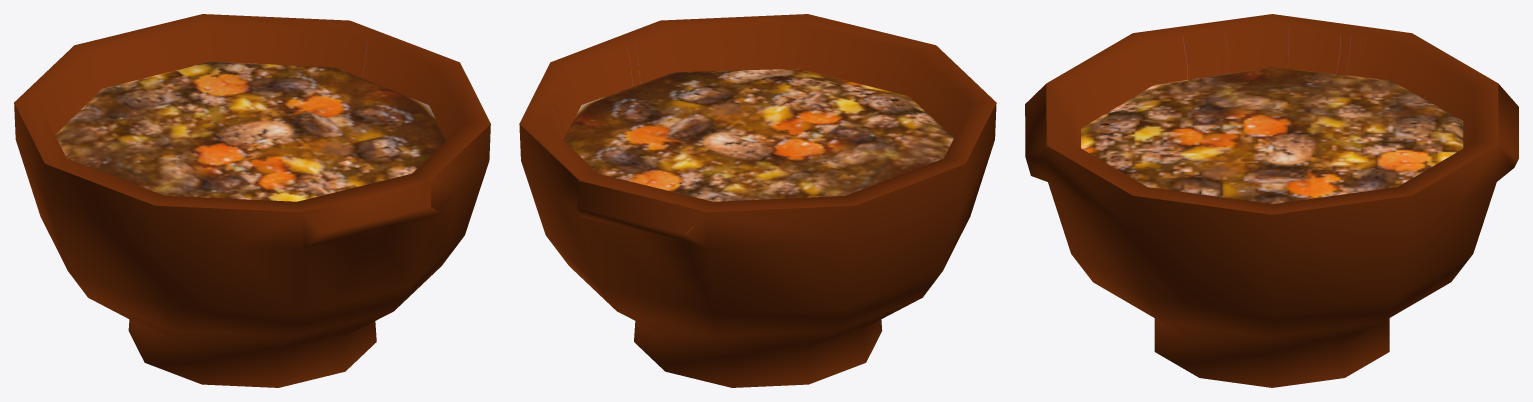
Rendered from KS_WitchSoup_Ground.fbx.
3 renders of one model, left to right at view 1: azimuth 30°, elevation 25°; view 2: azimuth 150°, elevation 25°; view 3: azimuth 270°, elevation 25°, orthographic.
Visible parts, largest first — view 1: Bowl.001; view 2: Bowl.001; view 3: Bowl.001.
Boxes of the visible parts, x1,y1,x2,y2 form: Bowl.001: [14, 14, 490, 387]; Bowl.001: [519, 14, 996, 387]; Bowl.001: [1025, 14, 1518, 387].
Bounding box in the file's own units: 0.857 × 0.4404 × 0.8903.
